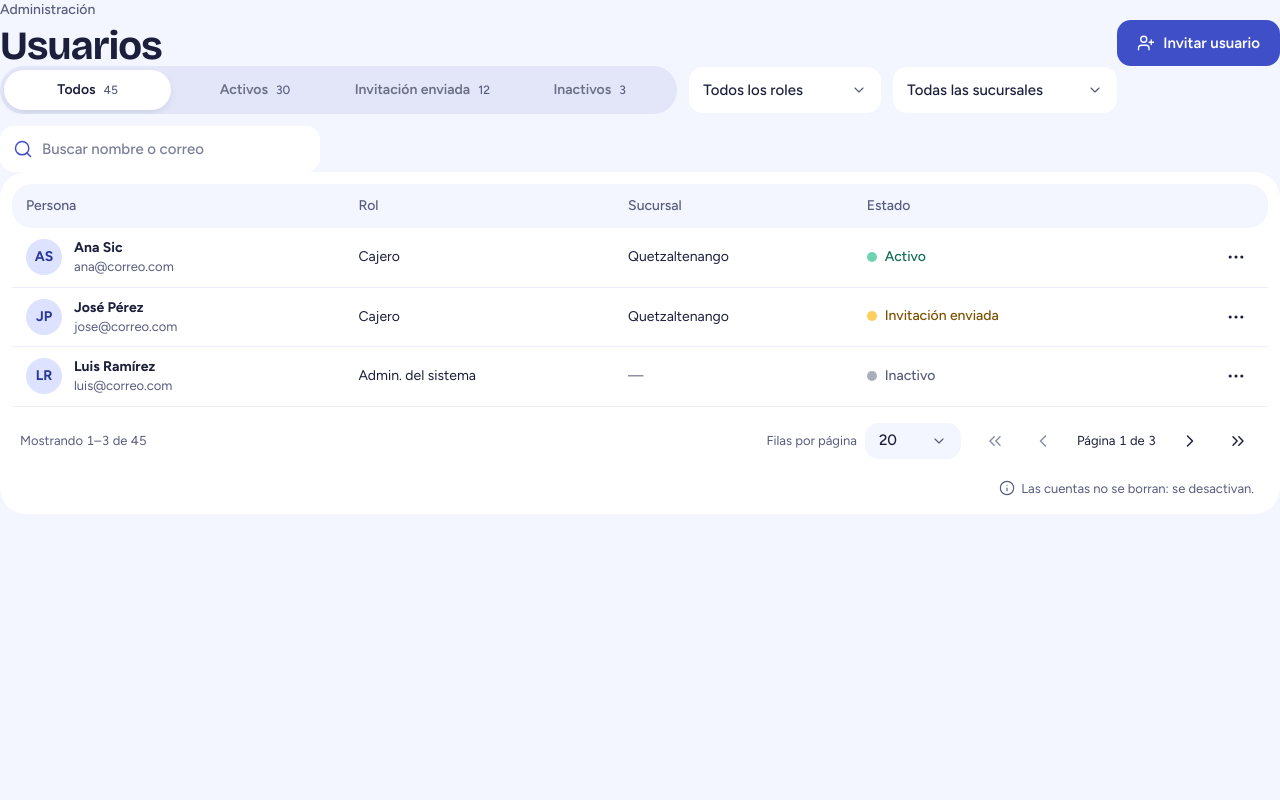
it: UsersScreen › has a single primary button to invite
Click the button "Invitar usuario": (1199, 43) [1117,20,1279,66]
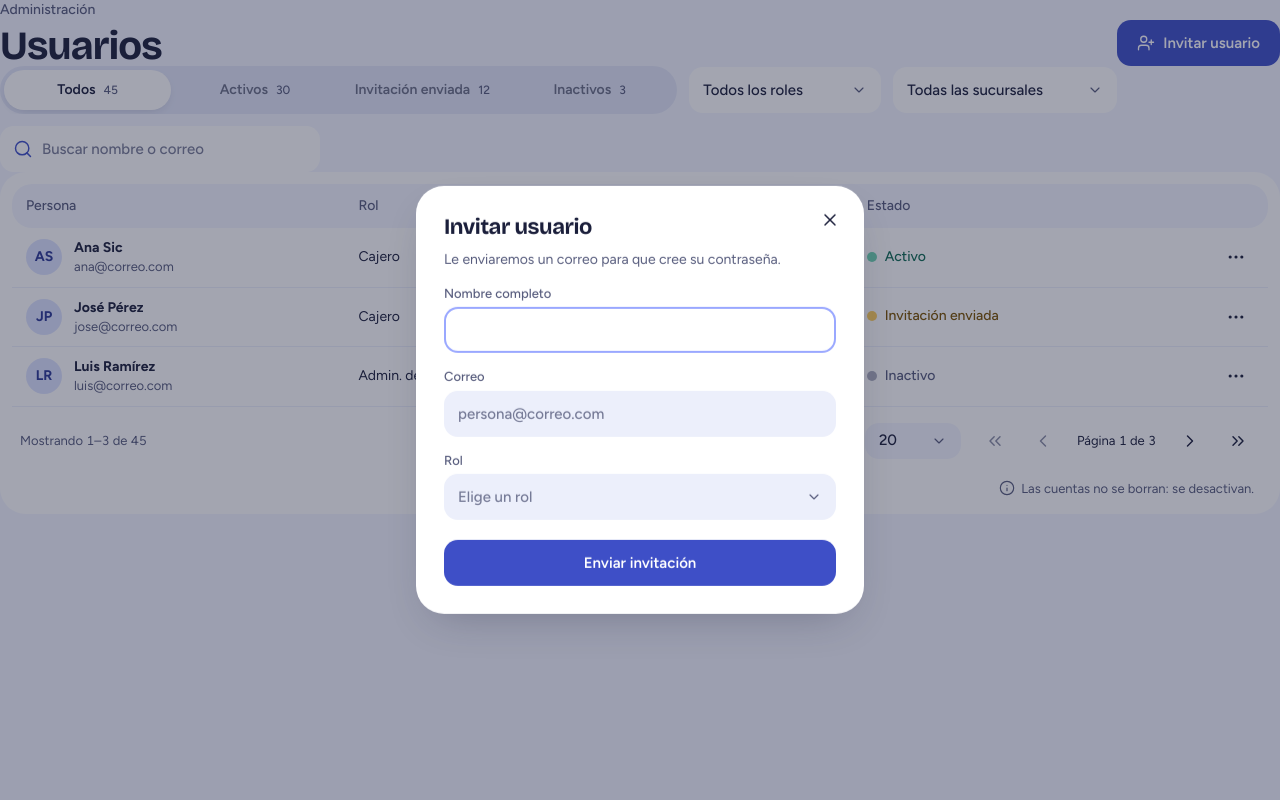
Expected: the dialog "Invitar usuario" is shown, [416,186,864,614]
